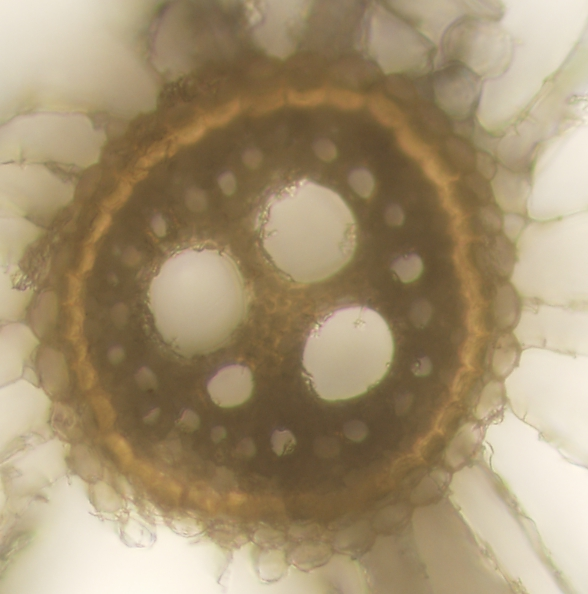lm: (148, 245, 250, 356), (261, 181, 359, 285), (302, 305, 394, 402)
